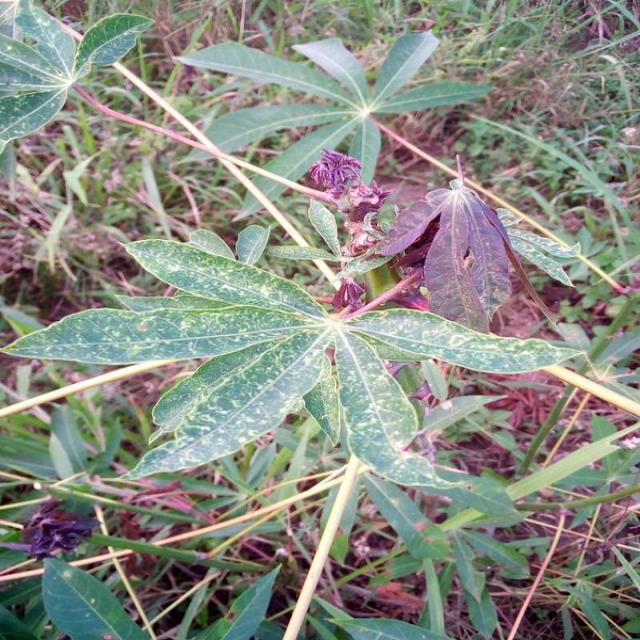cassava leaf: (2, 220, 588, 497), (2, 0, 155, 155)
